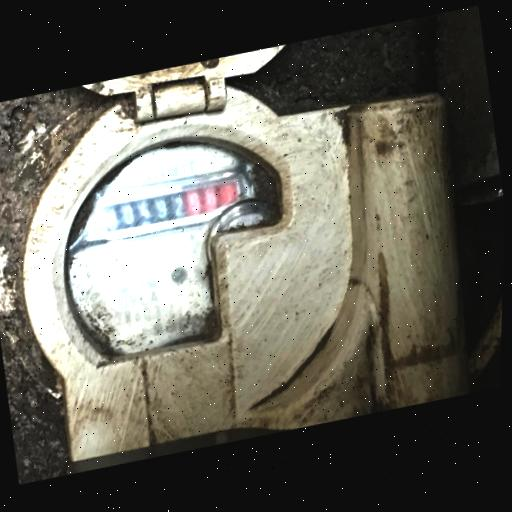0: (184, 187, 204, 217), (118, 200, 137, 229), (102, 203, 120, 233)
2: (169, 189, 187, 219)
4: (135, 197, 154, 226)
6: (201, 184, 220, 213)
7: (218, 180, 237, 205)
9: (151, 194, 171, 224)
border_water_meter_number: (76, 163, 260, 252)
